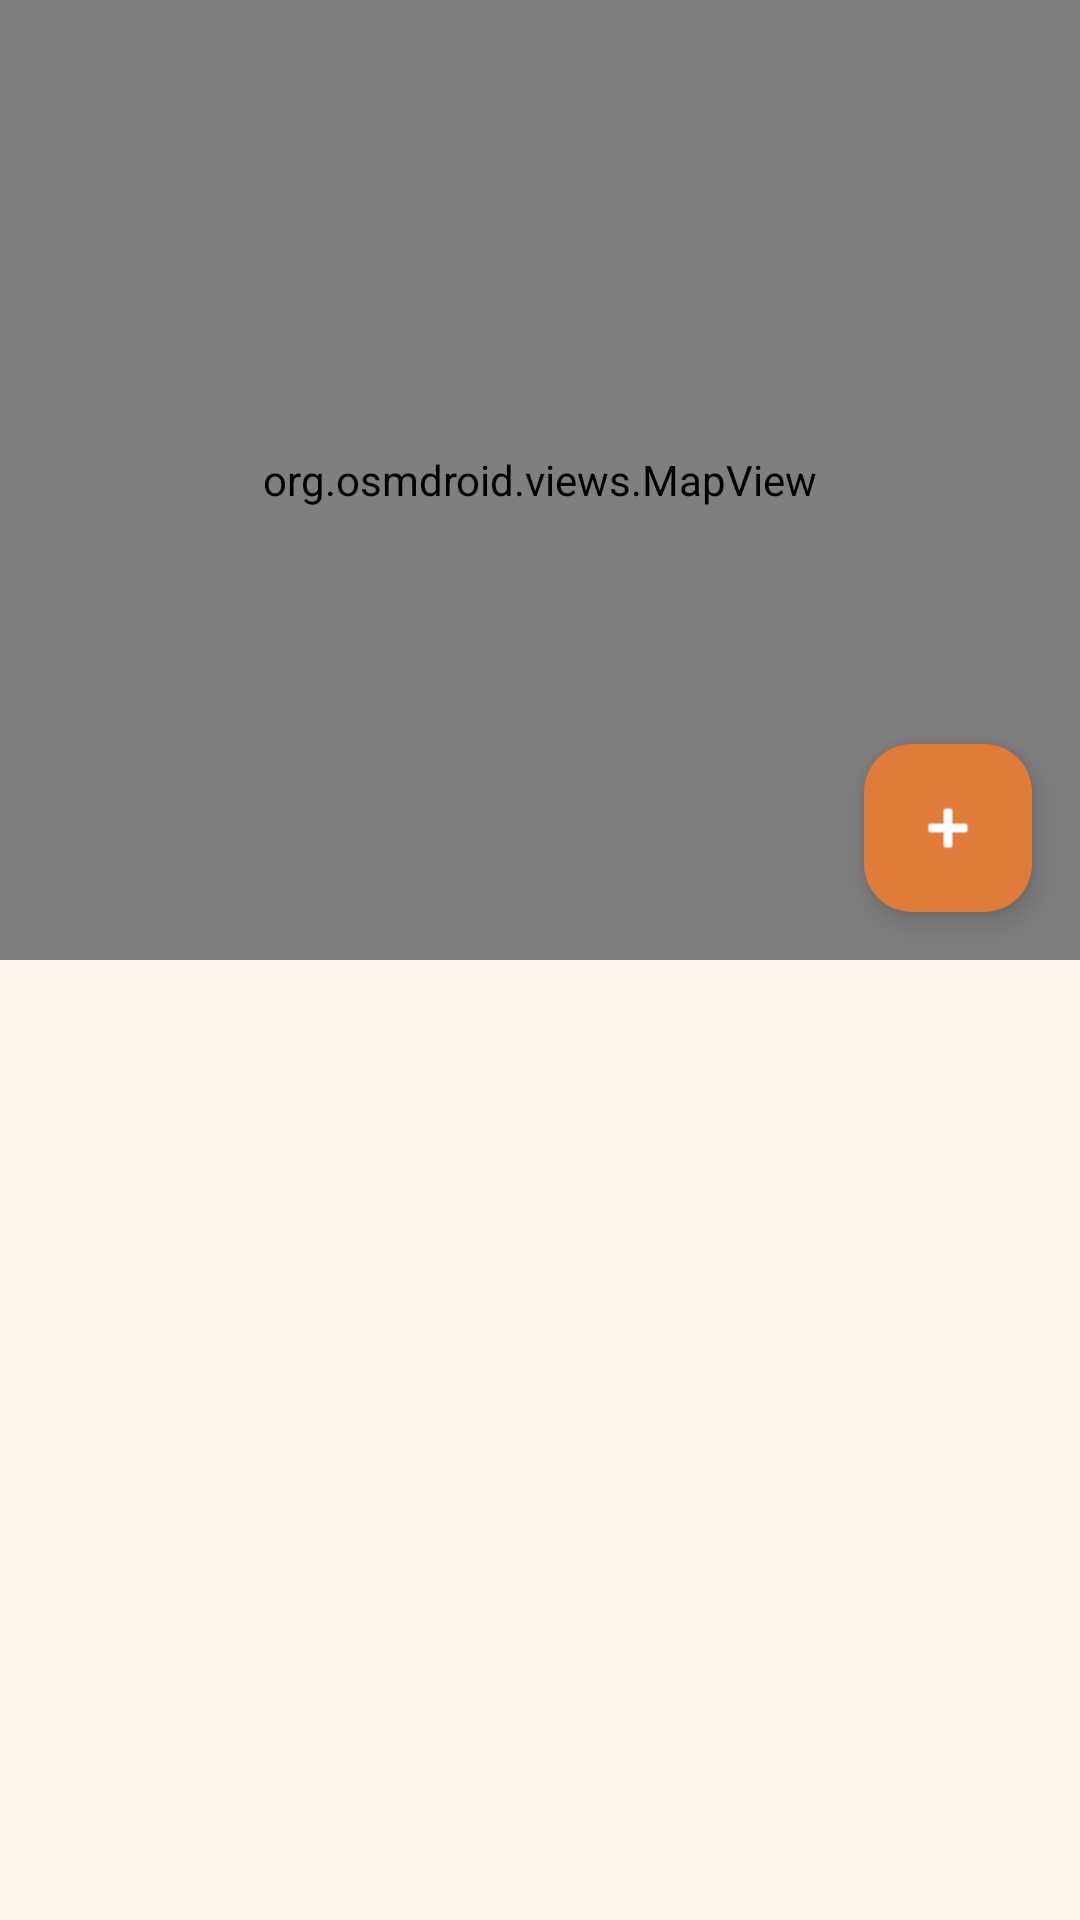

Point at icon controls on the screen. Image size 1080px×1920px, points as (x,y).
Add spot: (948,828)
